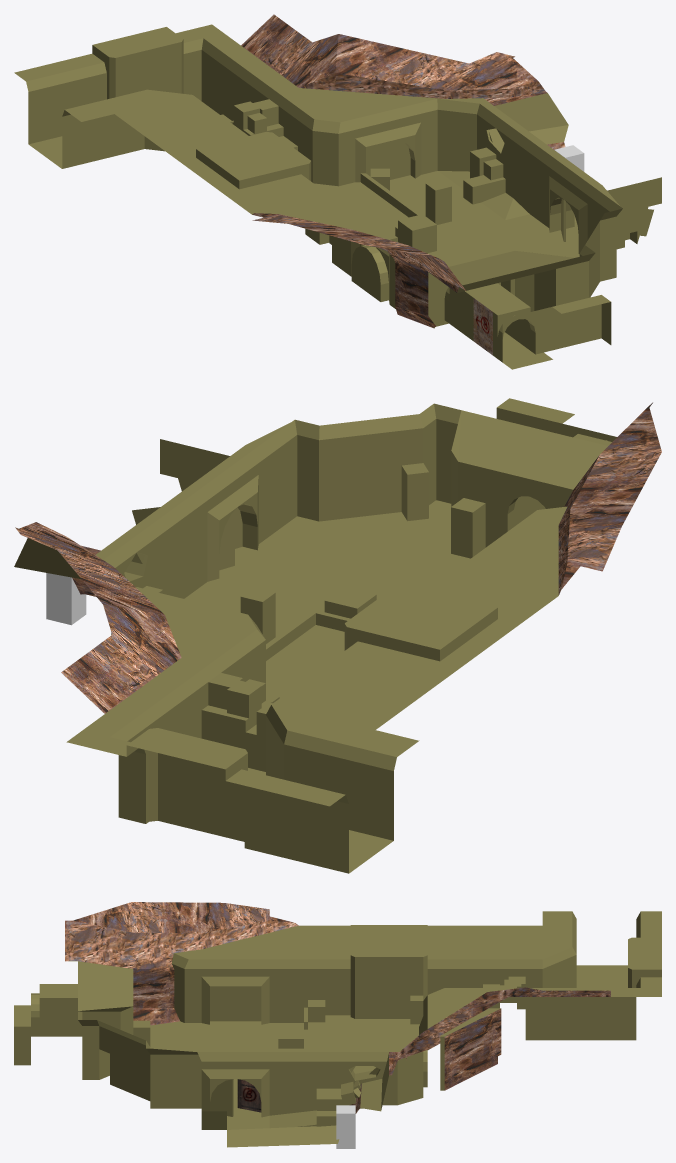
File: dust2.glb
3 views of the same model, one above another, from view 1: azimuth 30°, elevation 25°; view 2: azimuth 150°, elevation 25°; view 3: azimuth 270°, elevation 25° (orthographic). The views are drawn at different scales.
Visible parts, largest first — view 1: dust2; view 2: dust2, Cube; view 3: dust2, Cube.
Boxes of the visible parts, box(x1,y1,x2,y2) form: dust2: box(14, 14, 661, 369); dust2: box(14, 398, 661, 873); Cube: box(46, 573, 86, 625); dust2: box(14, 902, 661, 1147); Cube: box(336, 1105, 355, 1148).
Bounding box in the file's own units: 24.88 × 6.9 × 39.83.
5 materials, 3 textured.
